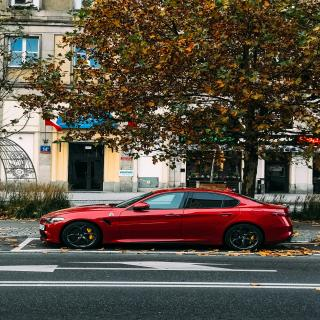Normal_vehicle: (38, 184, 295, 254)
